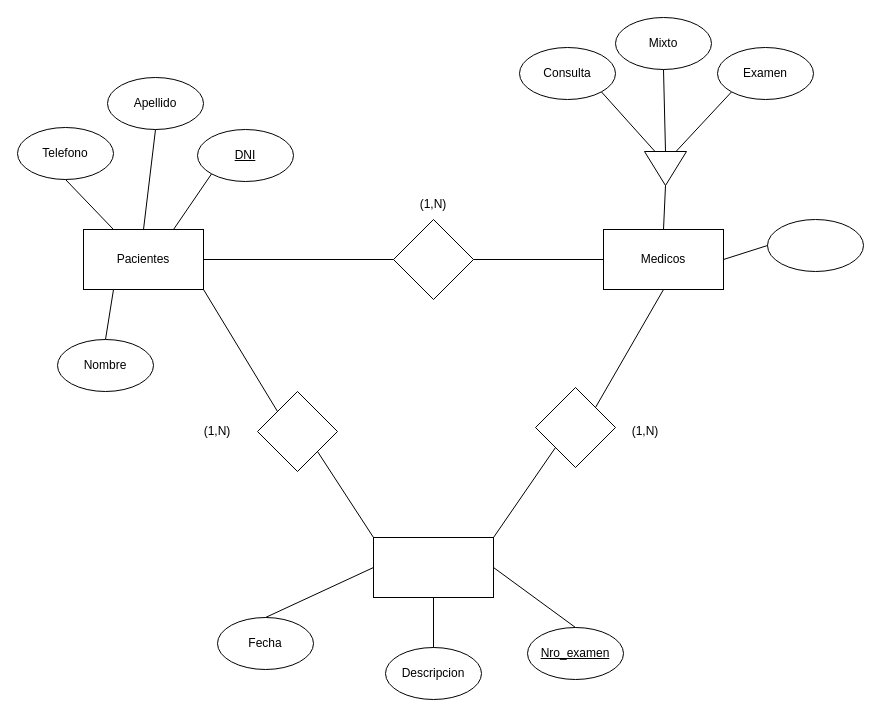
This 881x717 diagram has some shape labels left out. Each missing label, with the centre of its shape:
"Examenes" goes at point (433, 567).
"Examenes X Medicos" goes at point (575, 427).
"Examenes X Pacientes" goes at point (297, 431).
"Matricula" goes at point (815, 245).
"Pacientes X Medico" goes at point (433, 259).
